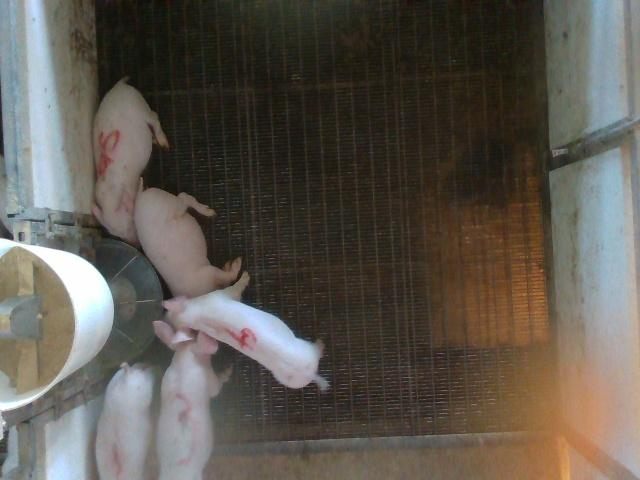pig-1: (96, 362, 155, 479)
pig-3: (155, 321, 225, 478)
pig-4: (164, 272, 328, 390)
pig-5: (92, 79, 168, 245)
